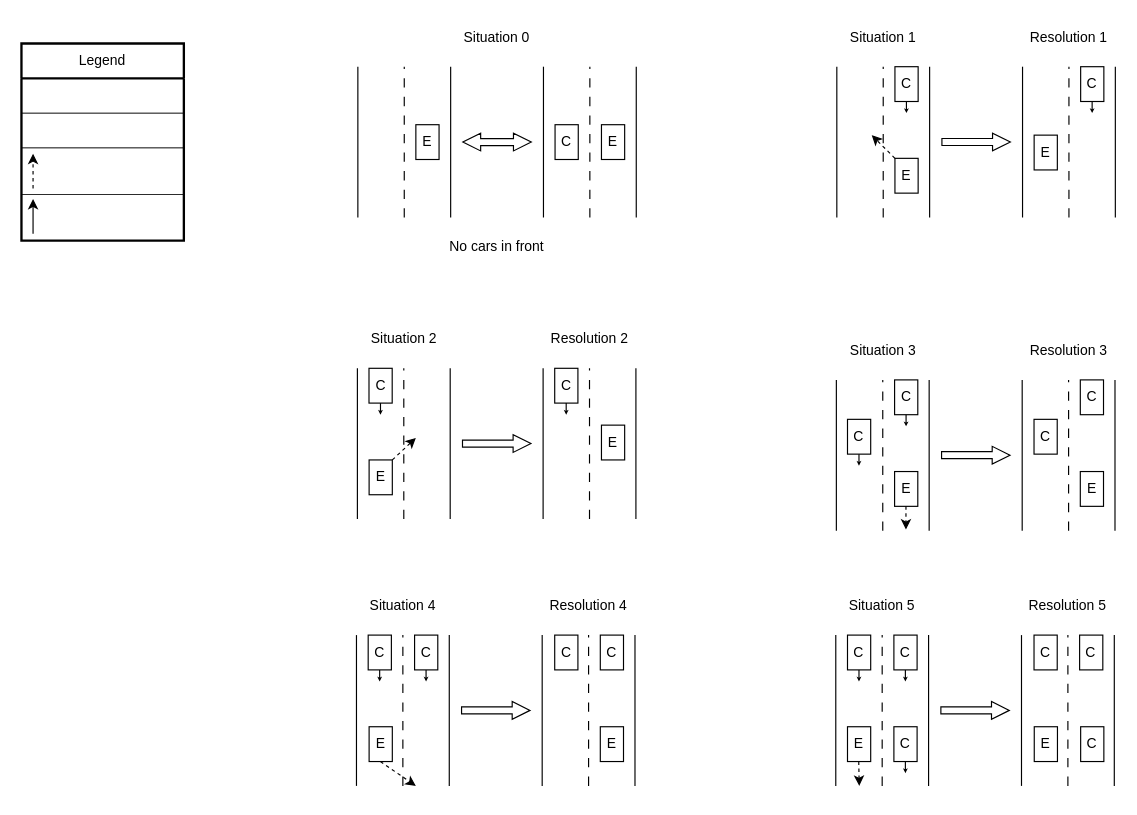
Image size: 1137x815. Some labels were removed from this diagram. Here are the shapes that lost their labels. From the top down, the centre of each, then its label:
At (102,95): "E = Ego Car (controlled)".
At (102,130): "C = NPC Car".
At (102,170): "= Next Move".
At (102,216): "= Relative velocity to ego car".
